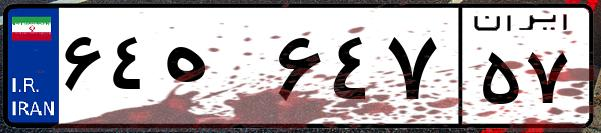4: (330, 28, 385, 110), (110, 28, 158, 98)
5: (475, 38, 525, 113)
6: (270, 28, 330, 110), (57, 26, 110, 100)
7: (385, 28, 445, 110), (525, 38, 570, 115)
ه: (158, 20, 270, 120)
